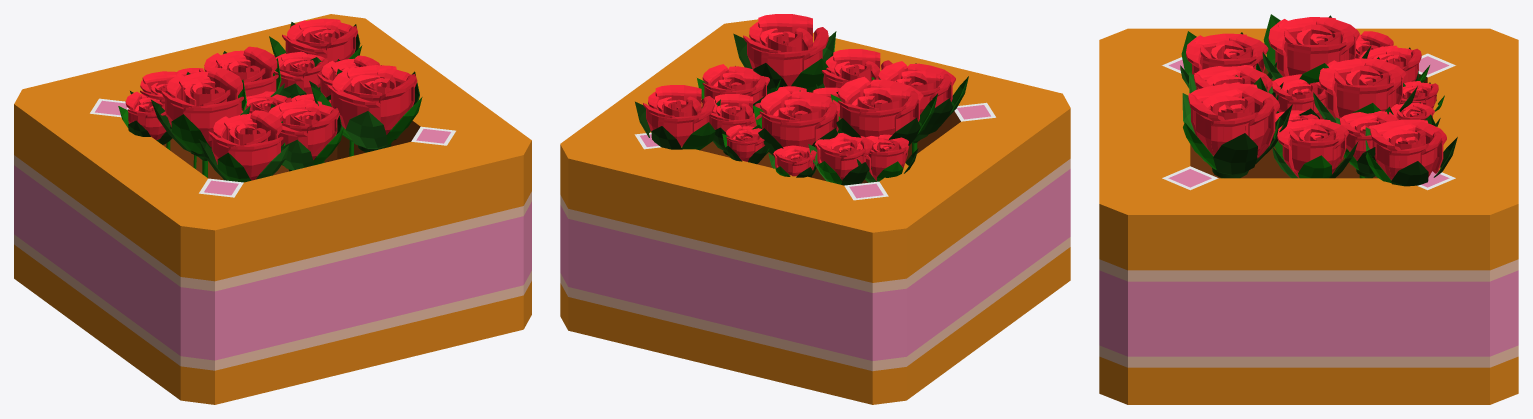
File: Hyabun1-1.fbx
The picture shows the model from 3 angles, left to right: view 1: azimuth 30°, elevation 25°; view 2: azimuth 150°, elevation 25°; view 3: azimuth 270°, elevation 25°; orthographic projection. The views are drawn at different scales.
Parts seen in each view (by area): view 1: Hyabun1-1; view 2: Hyabun1-1; view 3: Hyabun1-1.
Part boxes in pixels (x1,y1,x2,y2): Hyabun1-1: [14, 14, 531, 404]; Hyabun1-1: [560, 14, 1070, 404]; Hyabun1-1: [1099, 14, 1518, 404].
Size of the model in its own units: 0.5101 by 0.3181 by 0.4848.
